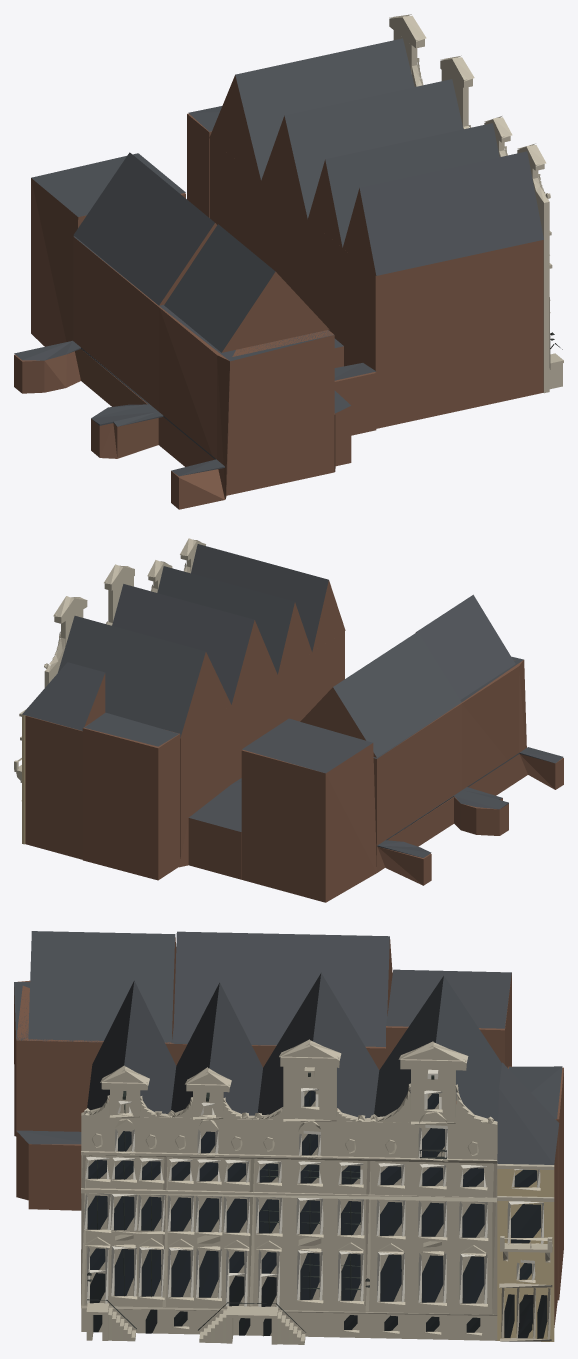
The model's file is cromhouthuizen.lod1.glb.
The picture shows the model from 3 angles, top to bottom: view 1: azimuth 30°, elevation 25°; view 2: azimuth 150°, elevation 25°; view 3: azimuth 270°, elevation 25°; orthographic projection. The views are drawn at different scales.
Parts seen in each view (by area): view 1: cromhouthuizen; view 2: cromhouthuizen; view 3: cromhouthuizen.
Boxes of the visible parts, left/top/right/bottom form: cromhouthuizen: left=14, top=14, right=563, bottom=509; cromhouthuizen: left=14, top=538, right=563, bottom=902; cromhouthuizen: left=14, top=931, right=563, bottom=1344.
Size of the model in its own units: 39.62 by 22.69 by 38.29.
